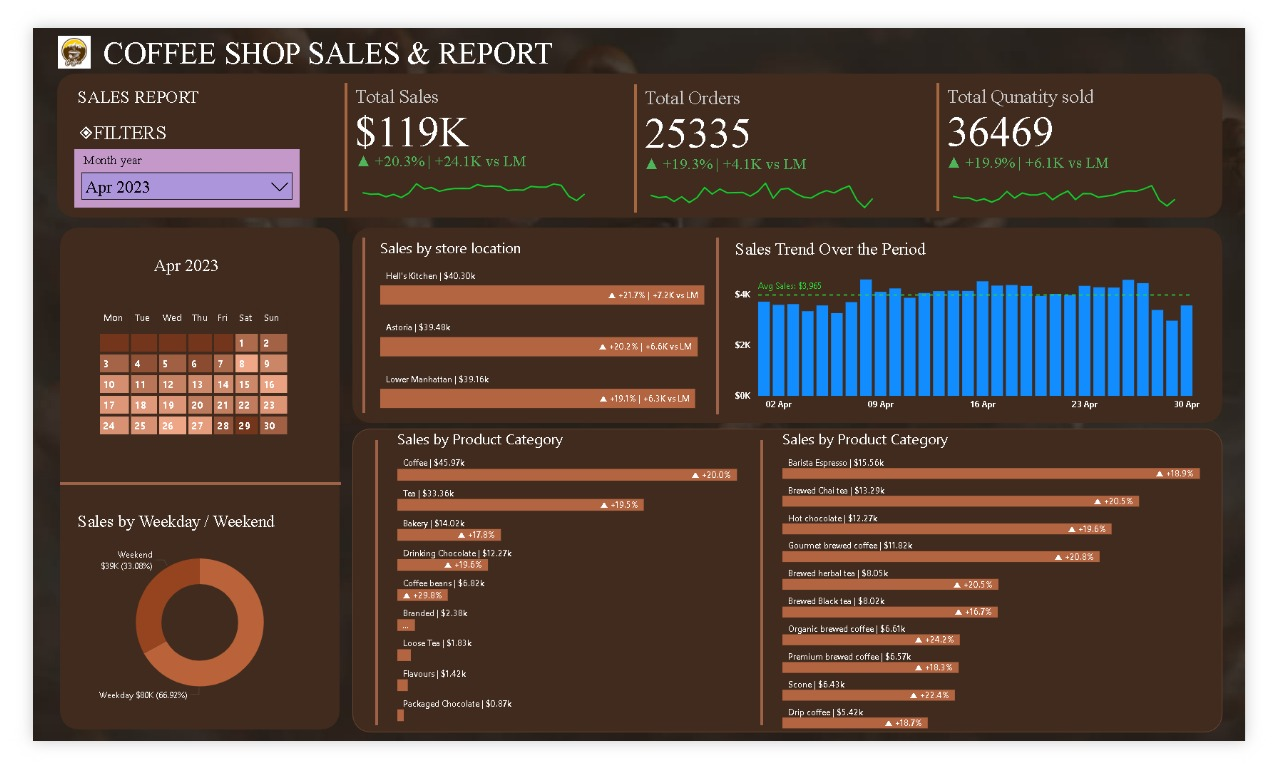

Layout of this report page (visuals, bound fields, positions):
{"tool":"powerbi","page":{"name":"Page 1","canvas":[1700,1000],"ordinal":0},"visuals":[{"type":"textbox","box":[94,6,672,72],"z":0},{"type":"shape","box":[38,280,392,704],"z":1000},{"type":"shape","box":[34,64,1634,202],"z":2000},{"type":"image","box":[30,6,56,56],"z":3000},{"type":"slicer","fields":{"Values":["date table.month year"]},"box":[58,170,316,82],"z":4000},{"type":"cardVisual","fields":{"Data":["Transactions.Total Sales"]},"box":[432,72,396,190],"z":5000},{"type":"lineChart","fields":{"Y":["Transactions.Total Sales"],"Category":["date table.Date Hierarchy 2.Date"]},"box":[448,174,340,88],"z":6000},{"type":"cardVisual","fields":{"Data":["Transactions.Total Orders"]},"box":[838,74,396,190],"z":7000},{"type":"lineChart","fields":{"Category":["date table.Date Hierarchy 2.Date"],"Y":["Transactions.Total Orders"]},"box":[852,178,340,88],"z":8000},{"type":"cardVisual","fields":{"Data":["Transactions.Total Qunatity sold"]},"box":[1262,72,396,190],"z":9000},{"type":"lineChart","fields":{"Category":["date table.Date Hierarchy 2.Date"],"Y":["Transactions.Total Qunatity sold"]},"box":[1276,176,340,88],"z":10000},{"type":"textbox","box":[58,126,182,48],"z":11000},{"type":"textbox","box":[58,78,248,48],"z":12000},{"type":"pivotTable","fields":{"Rows":["date table.WEEK NUMBER"],"Columns":["date table.DAY NAME"],"Values":["Min(date table.DAY NUMBER)"]},"box":[60,388,372,224],"z":13000},{"type":"card","fields":{"Values":["Min(date table.Month year)"]},"box":[152,308,126,50],"z":14000},{"type":"donutChart","title":"Sales by Weekday / Weekend","fields":{"Category":["date table.Weekday / Weekend"],"Y":["Transactions.Total Sales"]},"box":[58,678,352,284],"z":15000},{"type":"shape","box":[448,280,1220,274],"z":16000},{"type":"shape","box":[448,562,1220,426],"z":17000},{"type":"clusteredBarChart","title":"Sales by store location","fields":{"Category":["Transactions.store_location"],"Y":["Transactions.placeholder","Transactions.Total Sales"]},"box":[482,294,498,248],"z":18000},{"type":"shape","box":[38,500,394,278],"z":19000},{"type":"shape","box":[862,294,196,248],"z":20000},{"type":"shape","box":[246,294,436,246],"z":21000},{"type":"columnChart","title":"Sales Trend Over the Period ","fields":{"Category":["Transactions.transaction_date"],"Y":["Transactions.Total Sales"]},"box":[980,296,662,250],"z":22000},{"type":"clusteredBarChart","title":"Sales by Product Category ","fields":{"Y":["Transactions.placeholder","Transactions.Total Sales"],"Category":["Transactions.product_category"]},"box":[506,562,516,416],"z":22001},{"type":"shape","box":[262,578,440,400],"z":22002},{"type":"clusteredBarChart","title":"Sales by Product Type","fields":{"Y":["Transactions.placeholder","Transactions.Total Sales"],"Category":["Transactions.product_type"]},"box":[1046,562,622,426],"z":22003},{"type":"shape","box":[802,578,440,400],"z":22004},{"type":"textbox","box":[736,28,336,50],"z":22005}]}

Visuals, with their boxes in screenshot pixels (x1, y1, x2, y2), scaled from the page's 1700x1000 canvas onto the 1280x775 screenshot:
textbox: {"x1": 71, "y1": 5, "x2": 577, "y2": 60}
shape: {"x1": 29, "y1": 217, "x2": 324, "y2": 763}
shape: {"x1": 26, "y1": 50, "x2": 1256, "y2": 206}
image: {"x1": 23, "y1": 5, "x2": 65, "y2": 48}
slicer - date table.month year: {"x1": 44, "y1": 132, "x2": 282, "y2": 195}
cardVisual - Transactions.Total Sales: {"x1": 325, "y1": 56, "x2": 623, "y2": 203}
lineChart - Transactions.Total Sales x date table.Date Hierarchy 2.Date: {"x1": 337, "y1": 135, "x2": 593, "y2": 203}
cardVisual - Transactions.Total Orders: {"x1": 631, "y1": 57, "x2": 929, "y2": 205}
lineChart - date table.Date Hierarchy 2.Date x Transactions.Total Orders: {"x1": 642, "y1": 138, "x2": 898, "y2": 206}
cardVisual - Transactions.Total Qunatity sold: {"x1": 950, "y1": 56, "x2": 1248, "y2": 203}
lineChart - date table.Date Hierarchy 2.Date x Transactions.Total Qunatity sold: {"x1": 961, "y1": 136, "x2": 1217, "y2": 205}
textbox: {"x1": 44, "y1": 98, "x2": 181, "y2": 135}
textbox: {"x1": 44, "y1": 60, "x2": 230, "y2": 98}
pivotTable - date table.WEEK NUMBER x date table.DAY NAME: {"x1": 45, "y1": 301, "x2": 325, "y2": 474}
card - Min(date table.Month year): {"x1": 114, "y1": 239, "x2": 209, "y2": 277}
"Sales by Weekday / Weekend" donutChart: {"x1": 44, "y1": 525, "x2": 309, "y2": 746}
shape: {"x1": 337, "y1": 217, "x2": 1256, "y2": 429}
shape: {"x1": 337, "y1": 436, "x2": 1256, "y2": 766}
"Sales by store location" clusteredBarChart: {"x1": 363, "y1": 228, "x2": 738, "y2": 420}
shape: {"x1": 29, "y1": 388, "x2": 325, "y2": 603}
shape: {"x1": 649, "y1": 228, "x2": 797, "y2": 420}
shape: {"x1": 185, "y1": 228, "x2": 514, "y2": 418}
"Sales Trend Over the Period " columnChart: {"x1": 738, "y1": 229, "x2": 1236, "y2": 423}
"Sales by Product Category " clusteredBarChart: {"x1": 381, "y1": 436, "x2": 770, "y2": 758}
shape: {"x1": 197, "y1": 448, "x2": 529, "y2": 758}
"Sales by Product Type" clusteredBarChart: {"x1": 788, "y1": 436, "x2": 1256, "y2": 766}
shape: {"x1": 604, "y1": 448, "x2": 935, "y2": 758}
textbox: {"x1": 554, "y1": 22, "x2": 807, "y2": 60}
